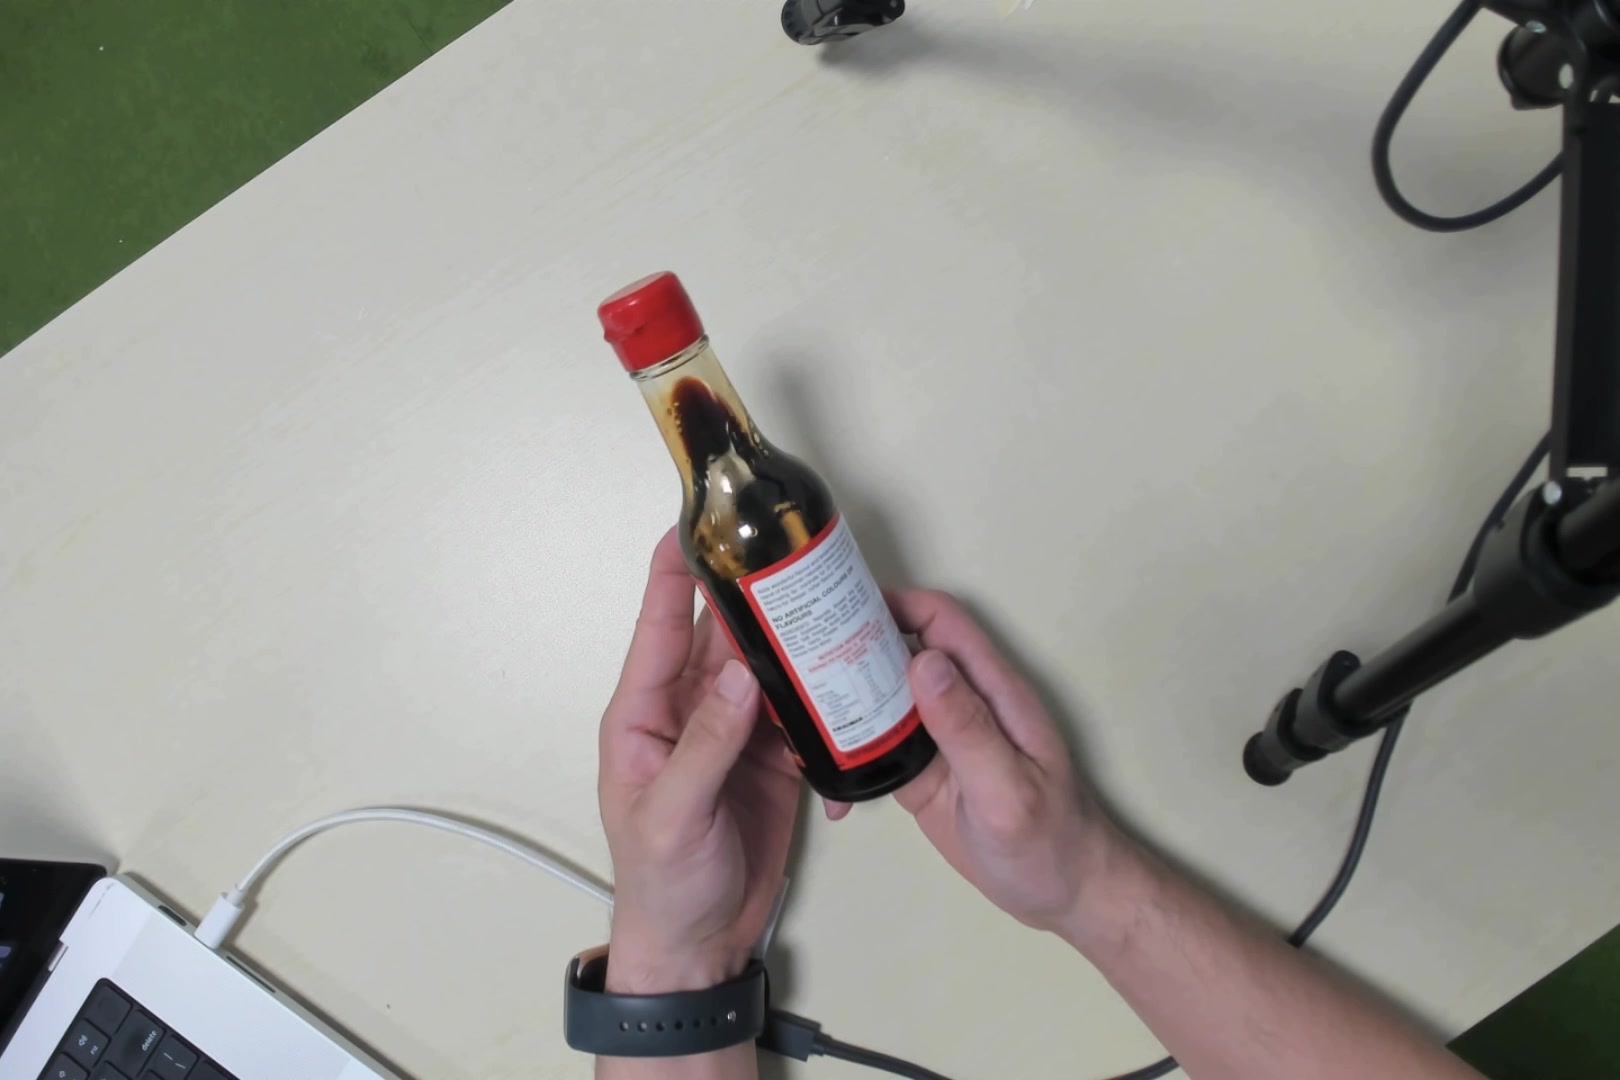OtherSauceDressingSoupbasePaste_200-299g_NonHalal_NonHealthy: (606, 235, 925, 797)
